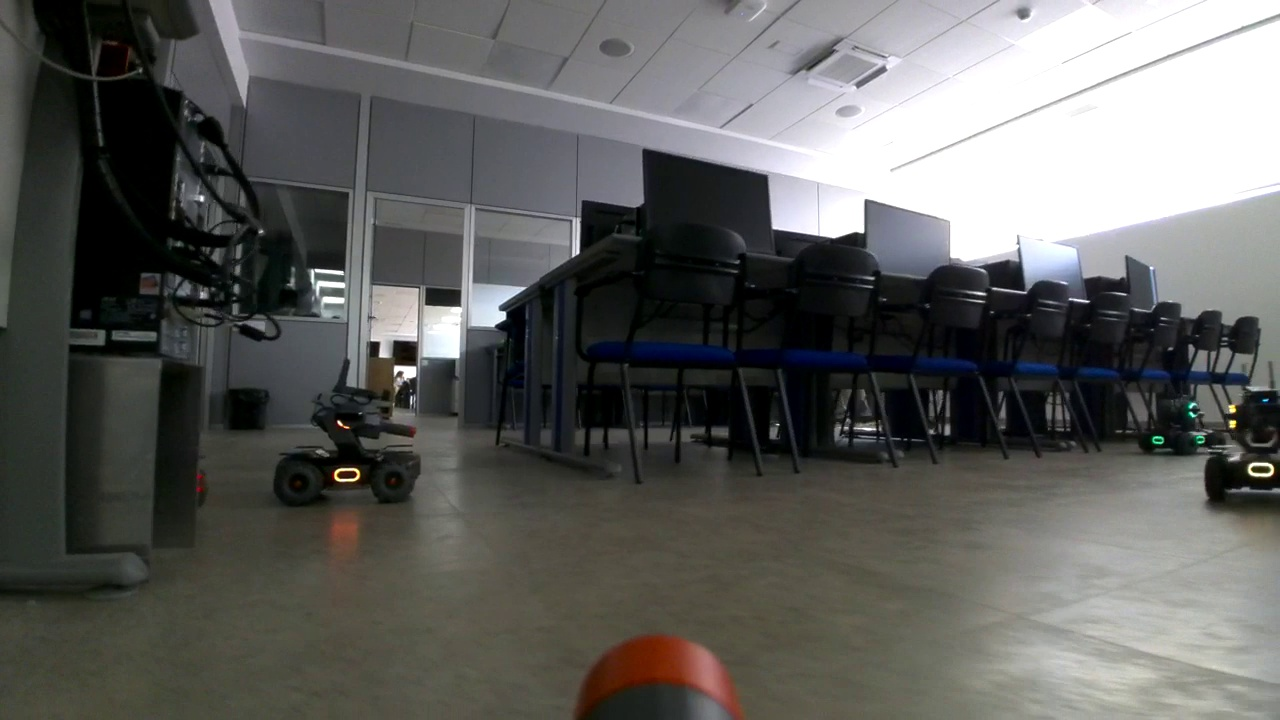robot: (273, 356, 420, 504), (1204, 362, 1280, 499), (1136, 381, 1227, 449)
